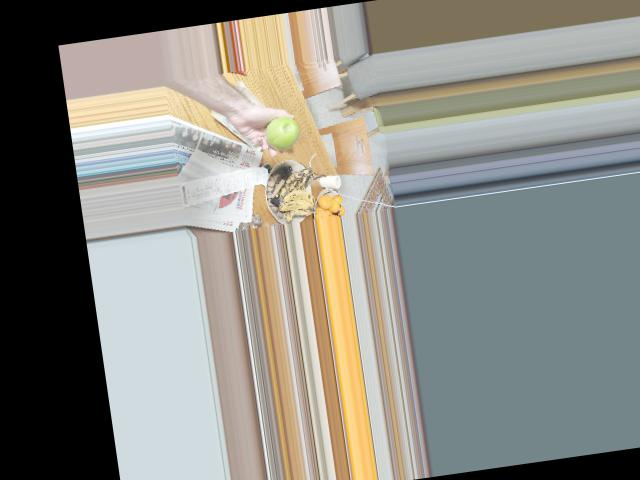apple: (261, 114, 303, 154)
